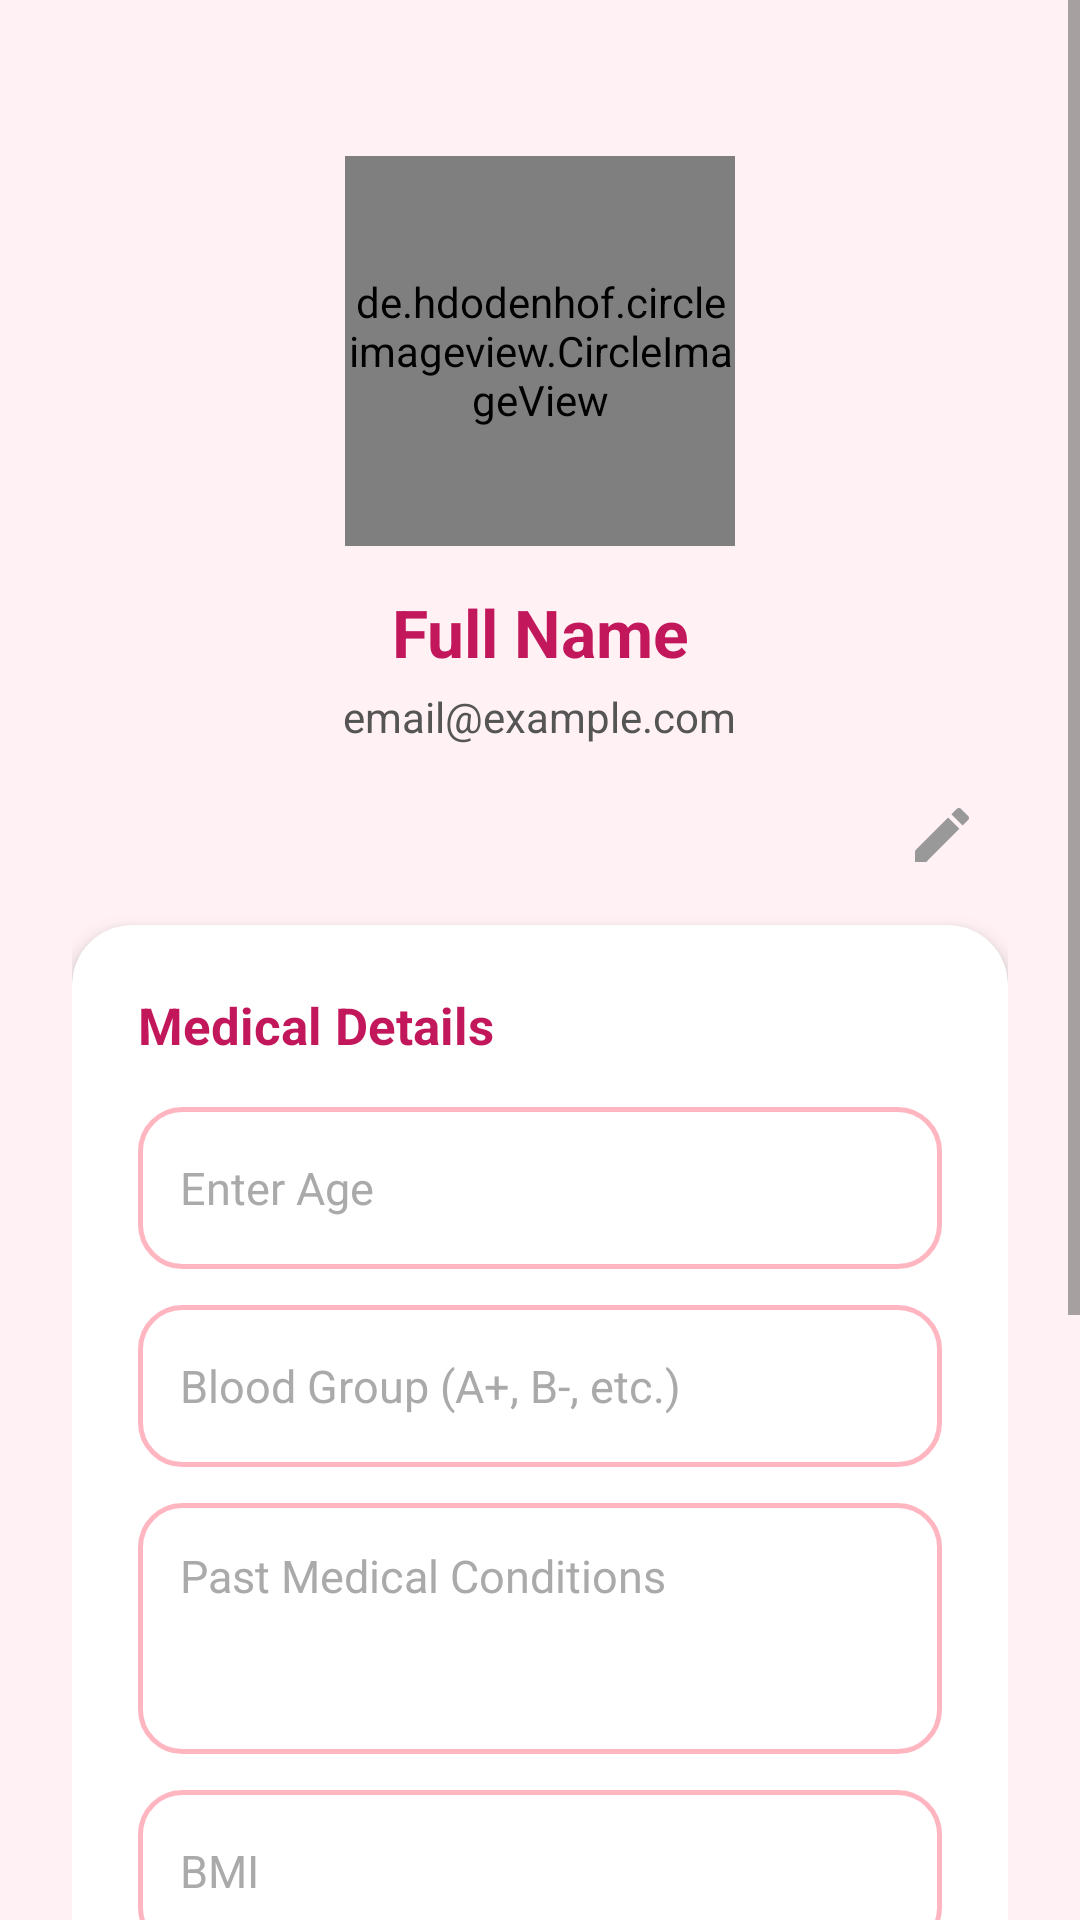

Named icons in this screenshot (1080*1920) and their centers, [x,y]:
Edit toggle: [942,835]
